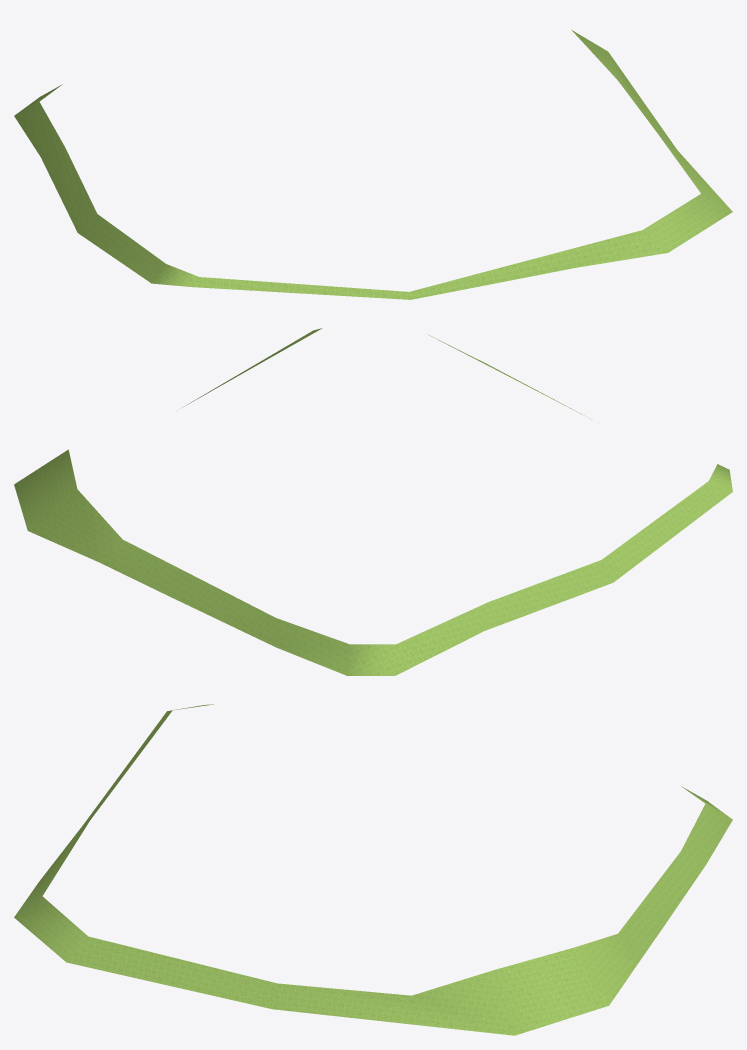
File: kd_stage_136599_10_30.glb
3 views of the same model, one above another, from view 1: azimuth 30°, elevation 25°; view 2: azimuth 150°, elevation 25°; view 3: azimuth 270°, elevation 25° (orthographic). The views are drawn at different scales.
Parts seen in each view (by area): view 1: kd_stage_136599_10_30; view 2: kd_stage_136599_10_30; view 3: kd_stage_136599_10_30.
Part boxes in pixels (x1,y1,x2,y2): kd_stage_136599_10_30: (14,30,732,299); kd_stage_136599_10_30: (14,328,732,675); kd_stage_136599_10_30: (14,704,732,1035).
Bounding box in the file's own units: 310 × 26.35 × 312.
1 material, 1 textured.
